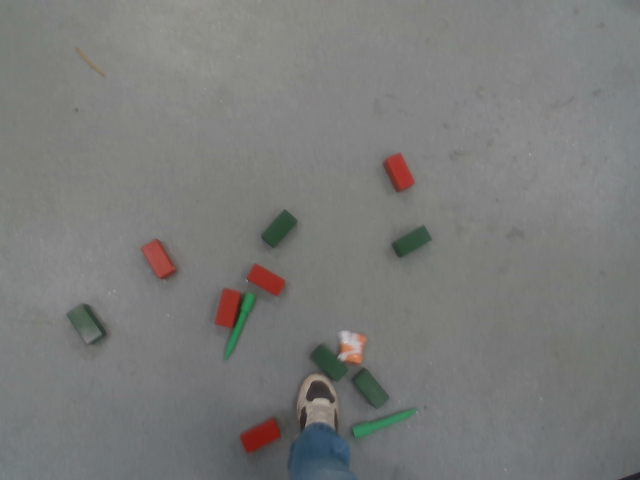Probe: (221, 290, 259, 364), (348, 403, 419, 440)
